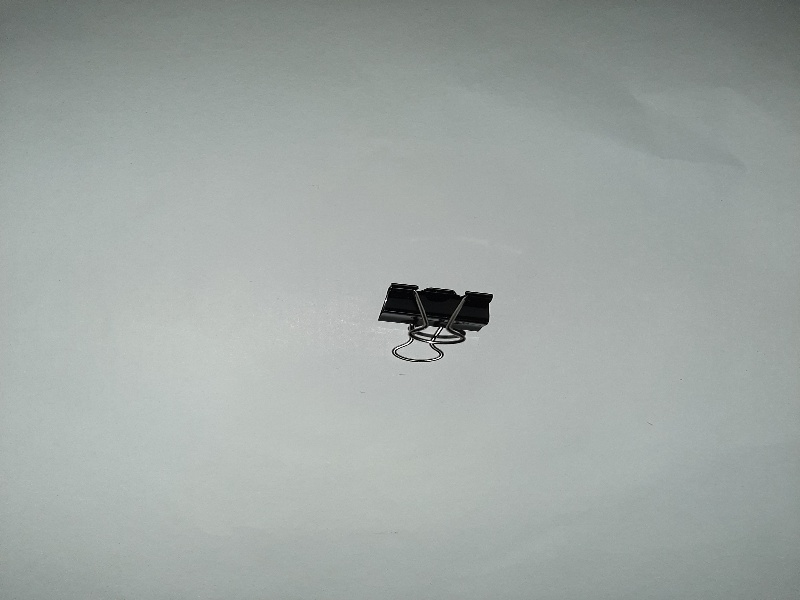Big Paperclip: (371, 272, 505, 372)
